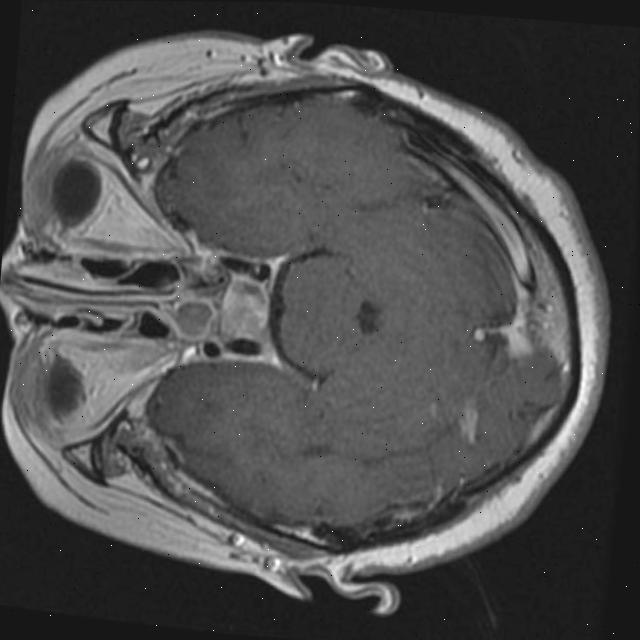Pituitary: (217, 274, 271, 340), (173, 297, 210, 337)
